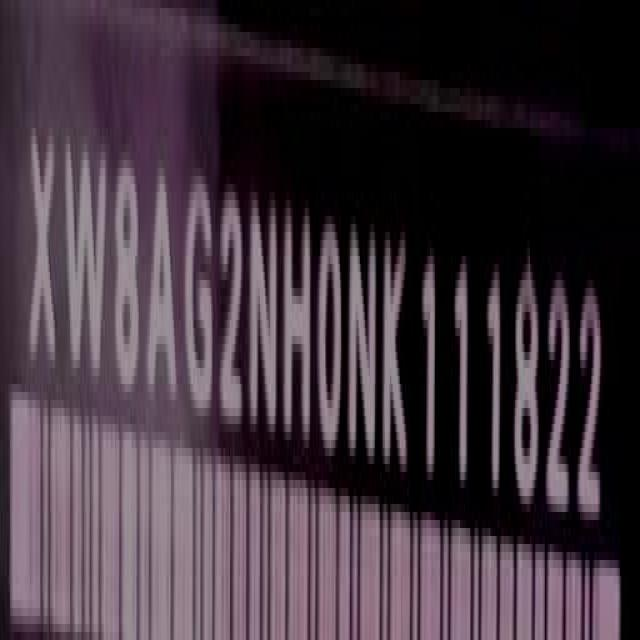0: (317, 222, 344, 474)
1: (420, 227, 439, 480), (454, 243, 472, 498), (487, 253, 504, 504)
2: (577, 272, 605, 534), (547, 271, 574, 524), (218, 173, 244, 435)
8: (116, 147, 143, 398), (515, 263, 540, 516)
A: (148, 158, 178, 411)
G: (183, 157, 214, 436)
H: (286, 184, 312, 450)
K: (382, 228, 409, 507)
N: (247, 175, 278, 447), (349, 199, 378, 466)
W: (62, 124, 110, 382)
X: (28, 110, 58, 378)
